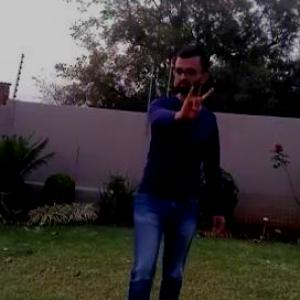takeoff-hand: (176, 76, 220, 126)
